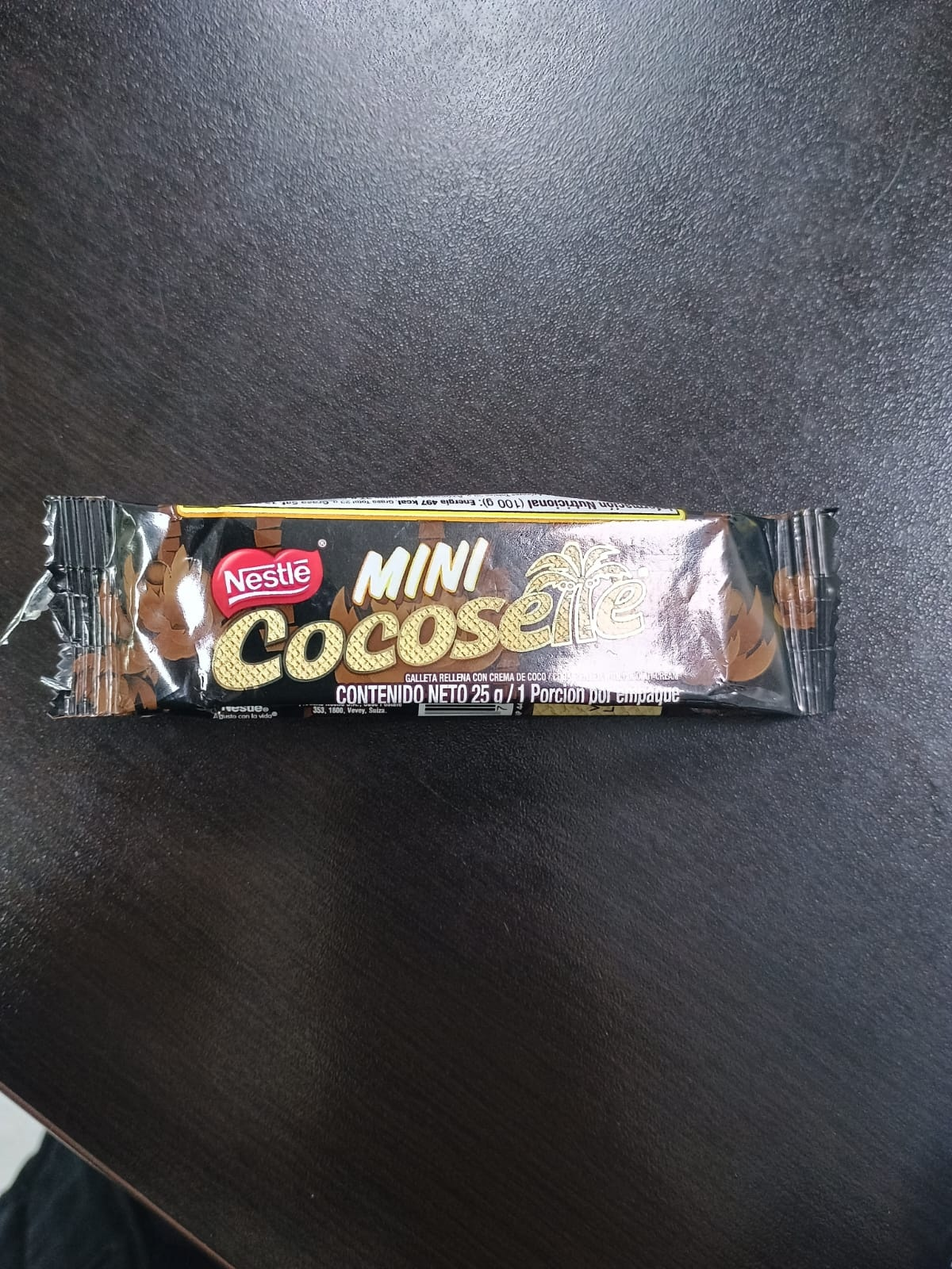Ordinario: (46, 492, 843, 720)
